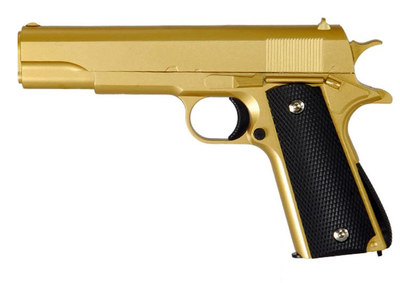gun: (11, 17, 398, 269)
